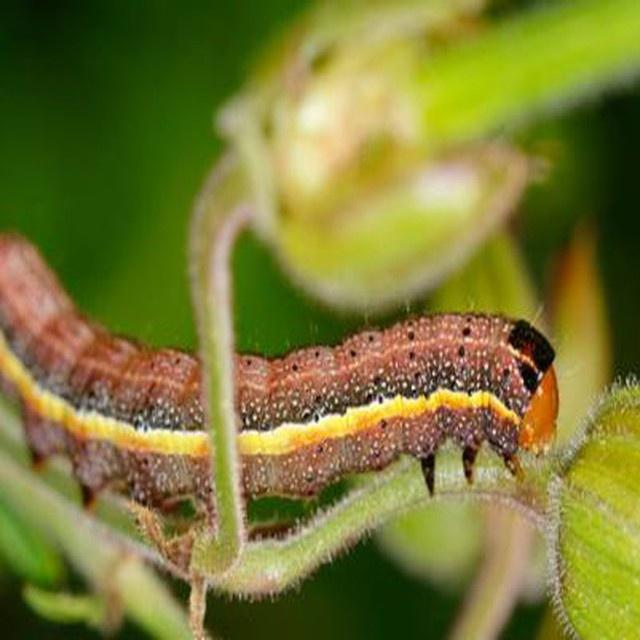Plaga: (1, 233, 556, 518)
